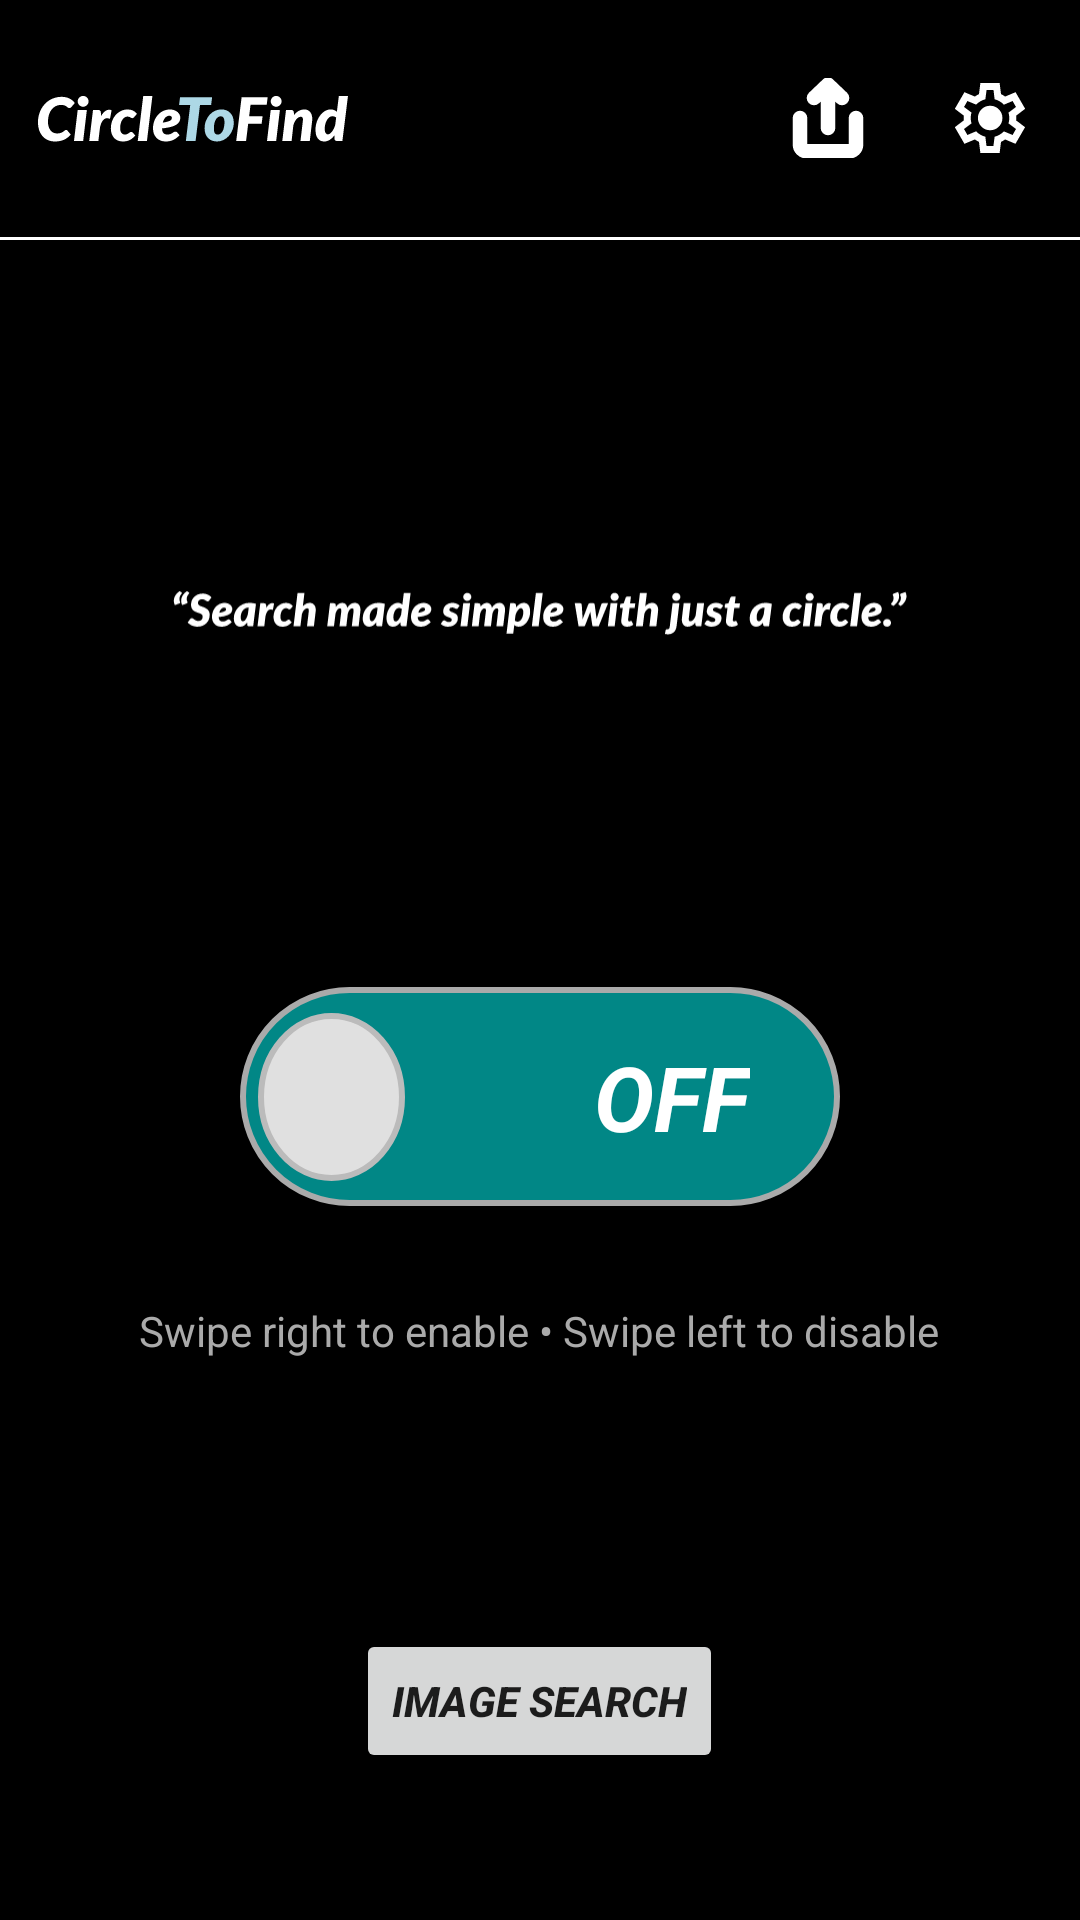

Named icons in this screenshot (1080px x 1920px) and their centers, point (x, y):
settings: point (990, 118)
share: point (828, 118)
